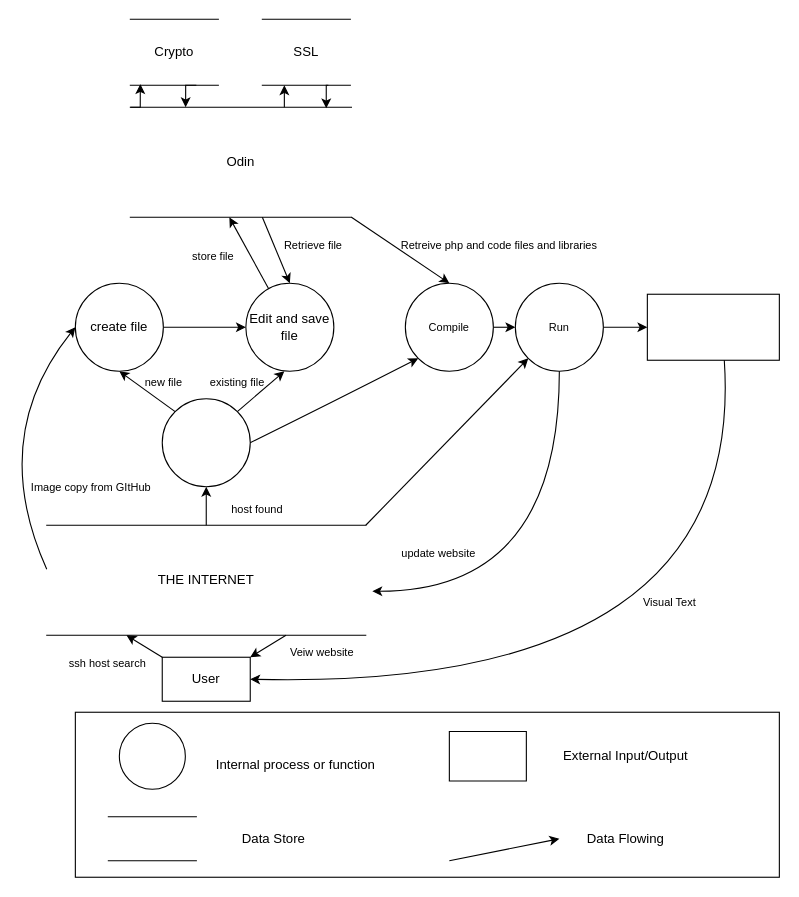
Some shapes in this 799 by 897 pixel diagram are drawn without their labels. Here are the shapes that lost their labels. From the top down, the centre of each, then its label:
At pixel 712 326: "File output".
At pixel 205 442: "Session established".
